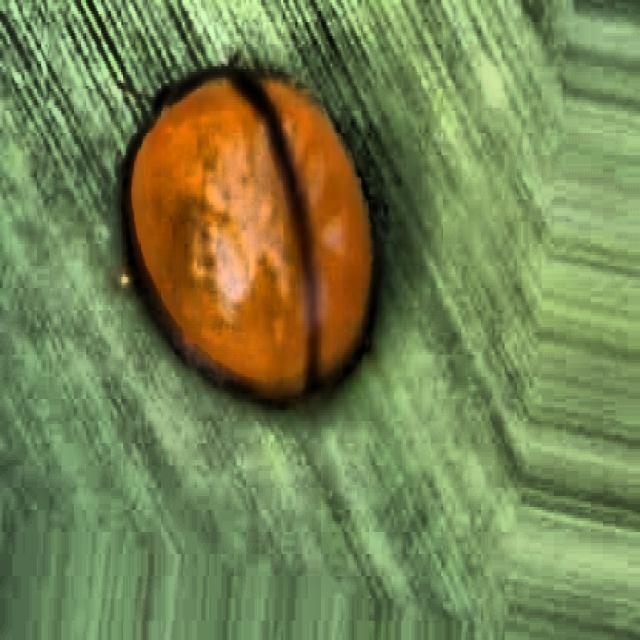Ladybug: (47, 14, 437, 466)
